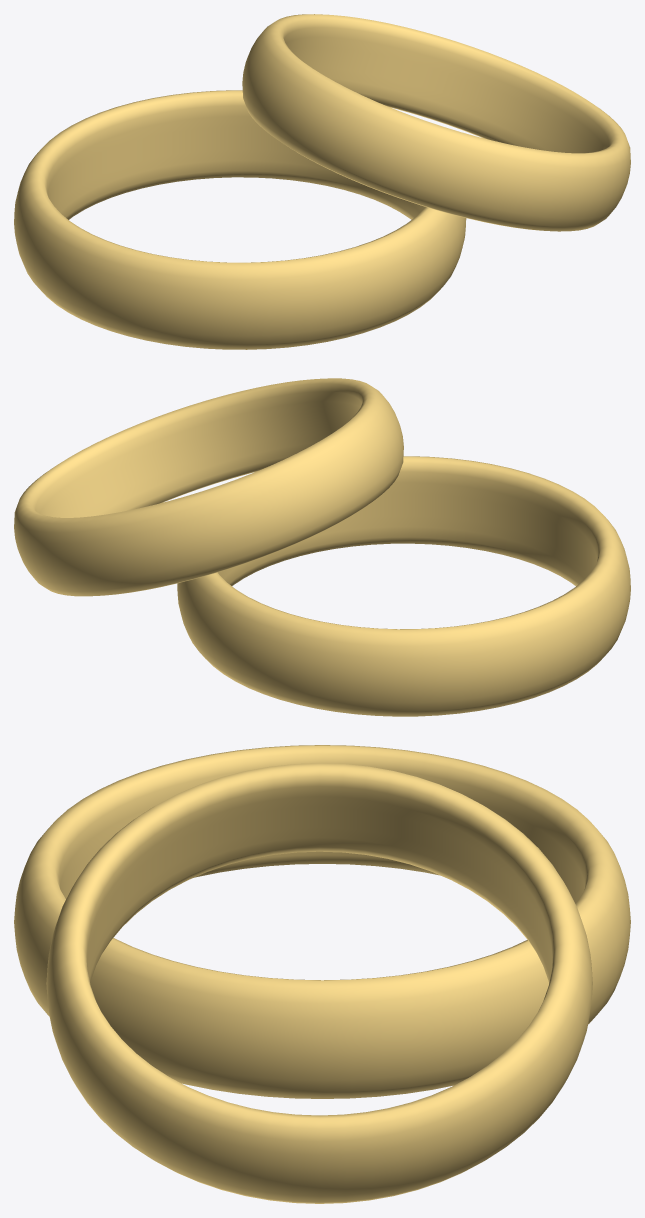
Rendered from classic_golden_wedding_rings.glb.
3 renders of one model, top to bottom at view 1: azimuth 30°, elevation 25°; view 2: azimuth 150°, elevation 25°; view 3: azimuth 270°, elevation 25°, orthographic. The views are drawn at different scales.
Parts seen in each view (by area): view 1: ring, ring_small; view 2: ring, ring_small; view 3: ring_small, ring.
Boxes of the visible parts, box(x1,y1,x2,y2) form: ring: box(14, 90, 466, 349); ring_small: box(242, 14, 630, 231); ring: box(177, 456, 630, 716); ring_small: box(14, 378, 403, 596); ring_small: box(46, 763, 592, 1203); ring: box(14, 745, 630, 1098).
Bounding box in the file's own units: 26.55 × 8.49 × 18.65.
Materials: 1 (1 with a texture image).
